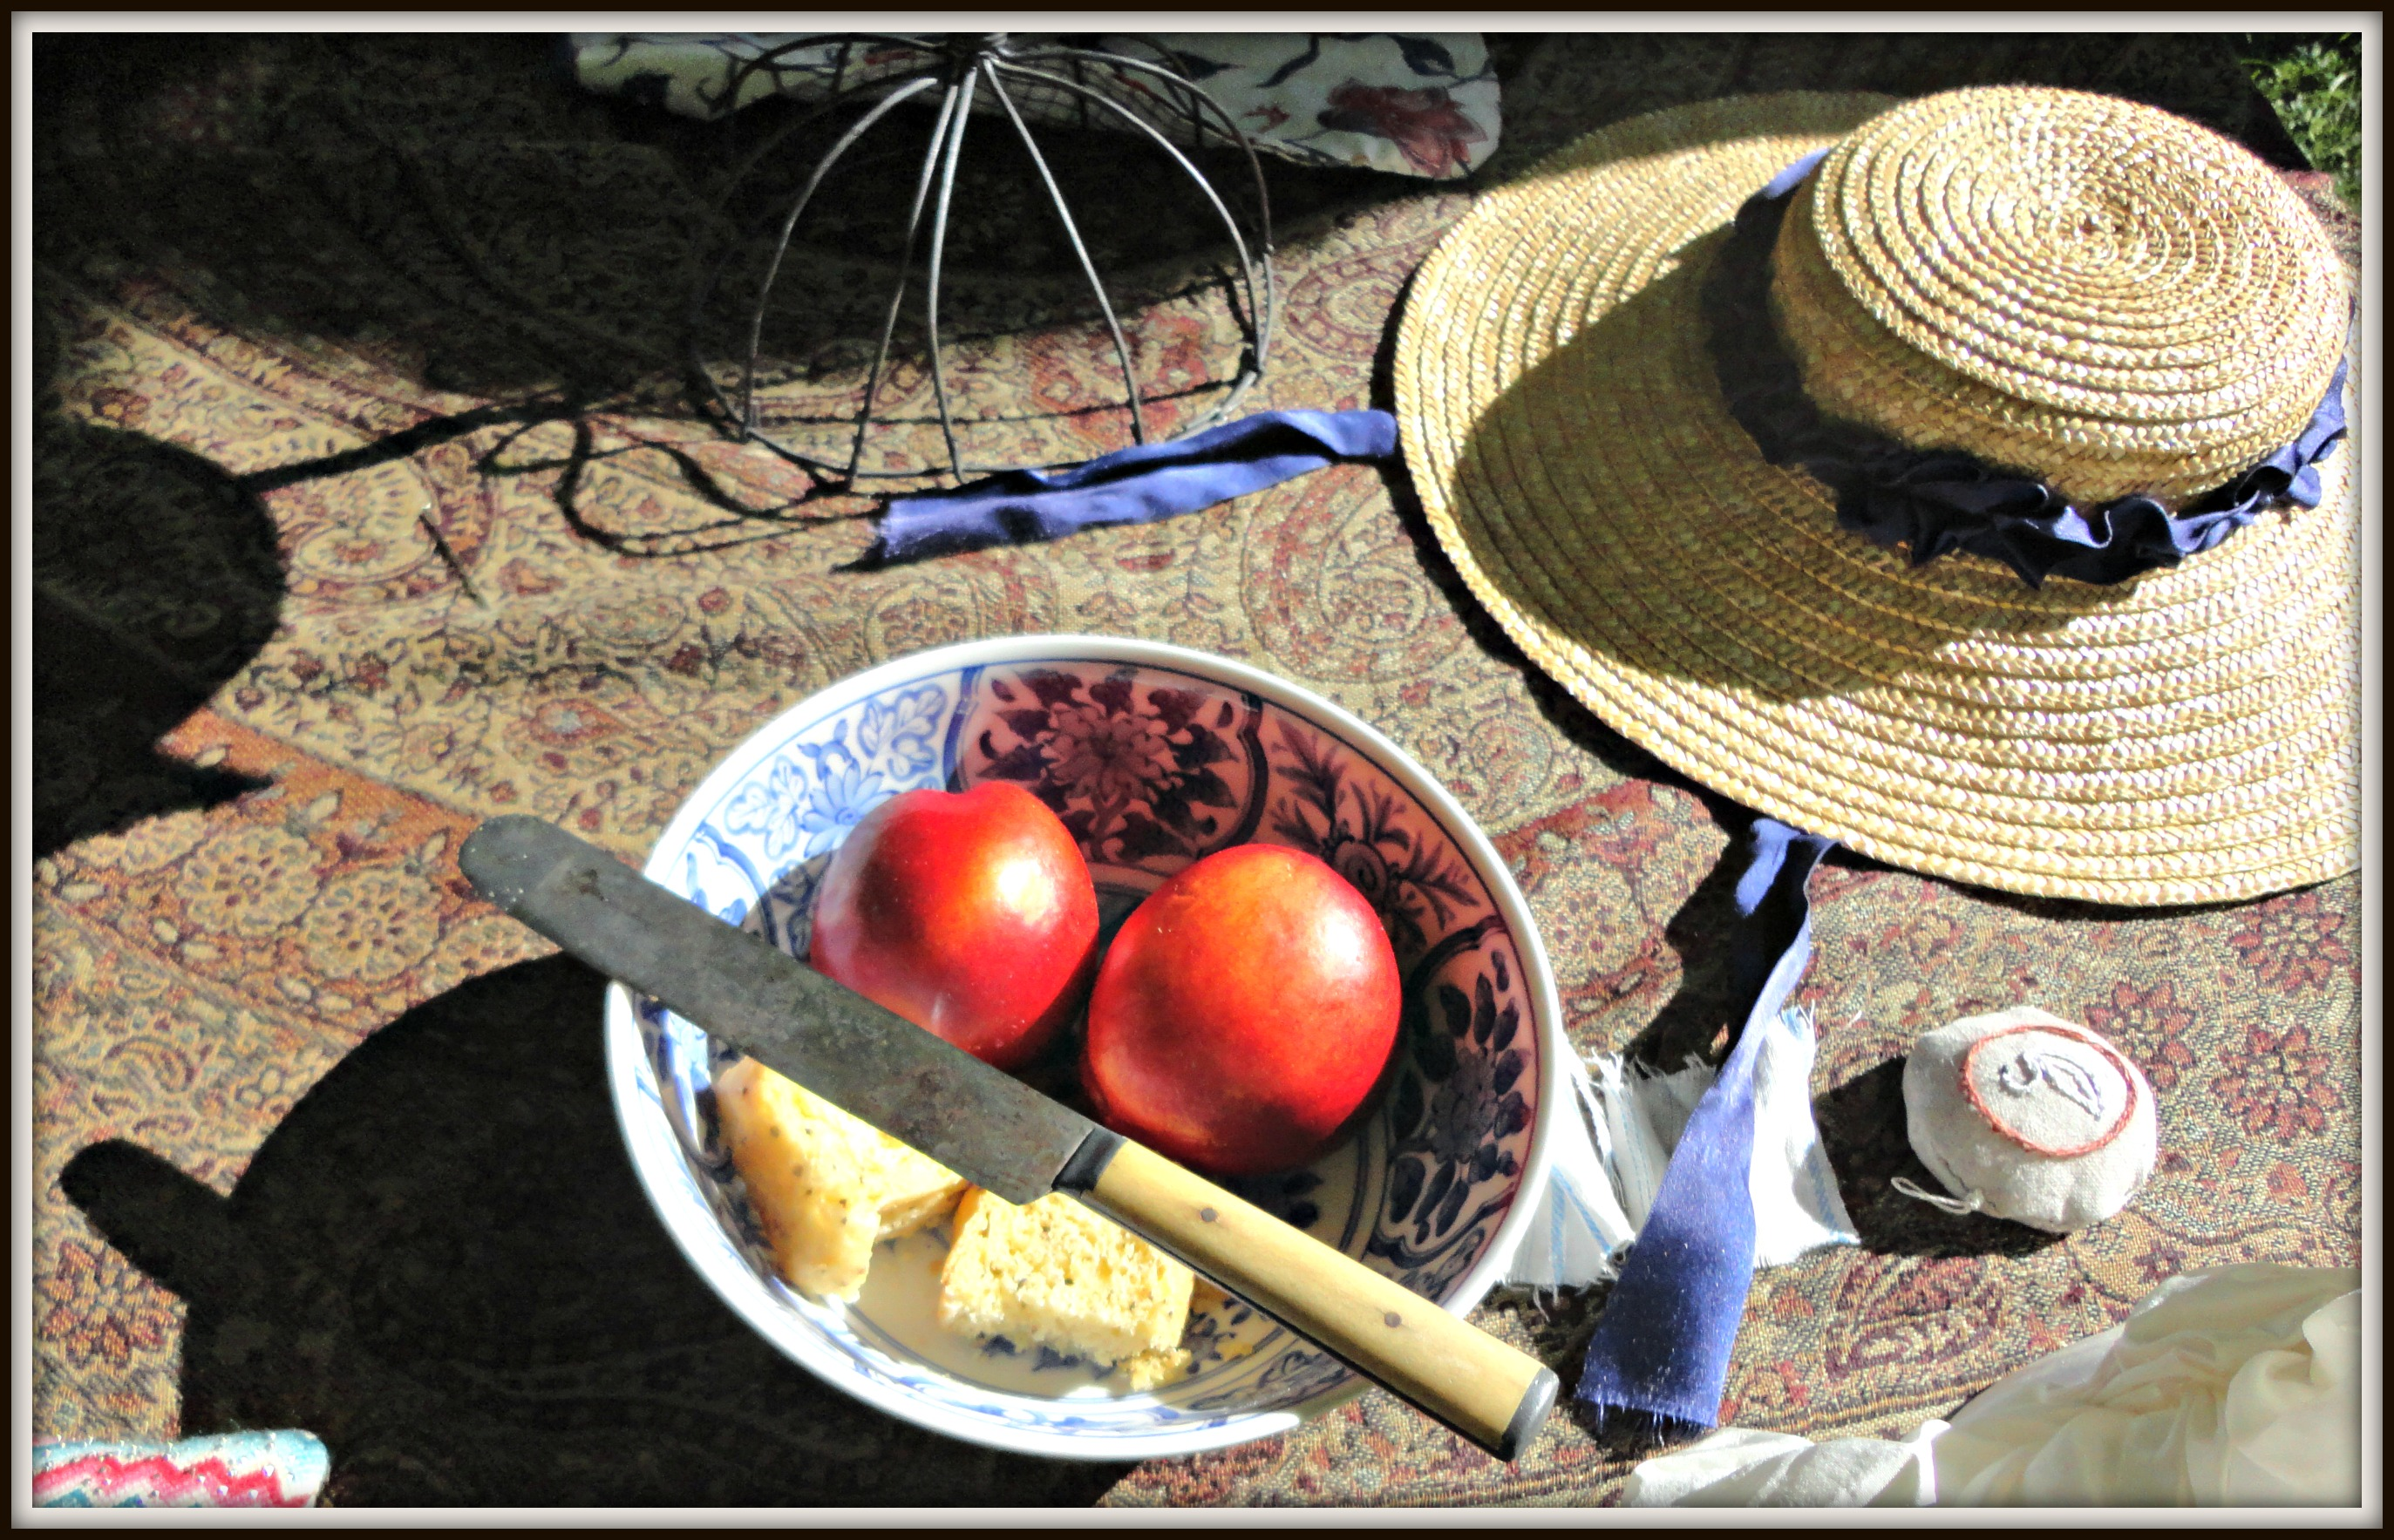Apple: (1094, 876, 1410, 1191), (804, 762, 1106, 1057)
